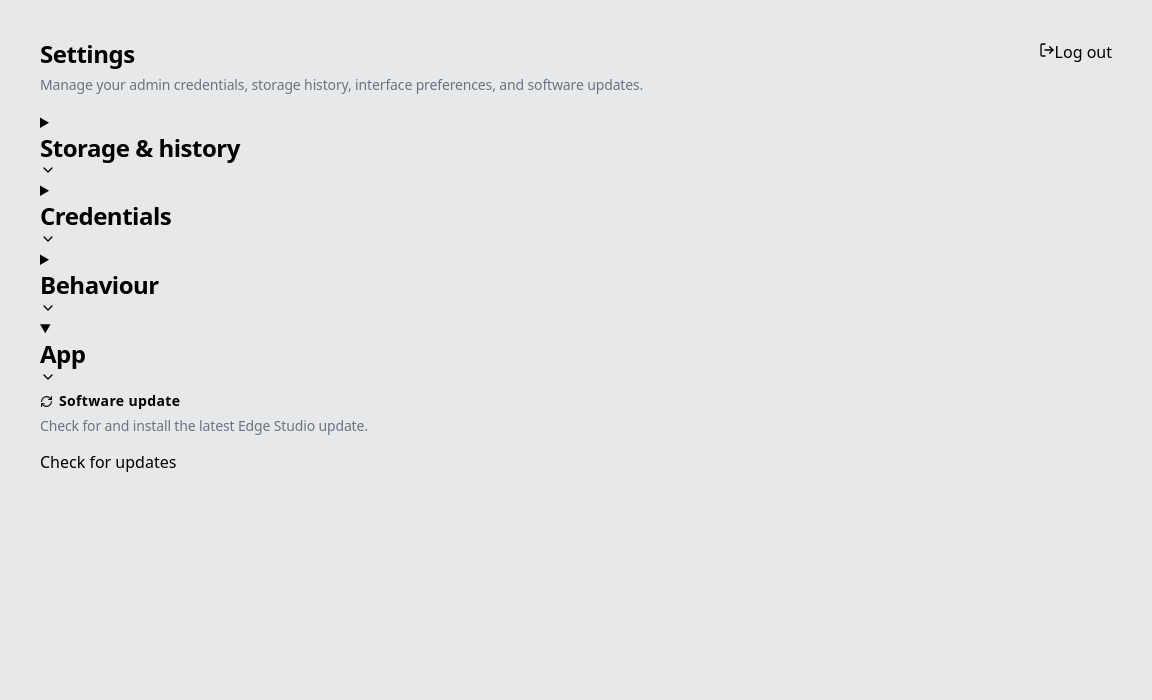
it: loads the storage inventory only after opening the storage history section
Click the heading "Storage & history".
click(140, 154)  # box [40, 131, 240, 178]
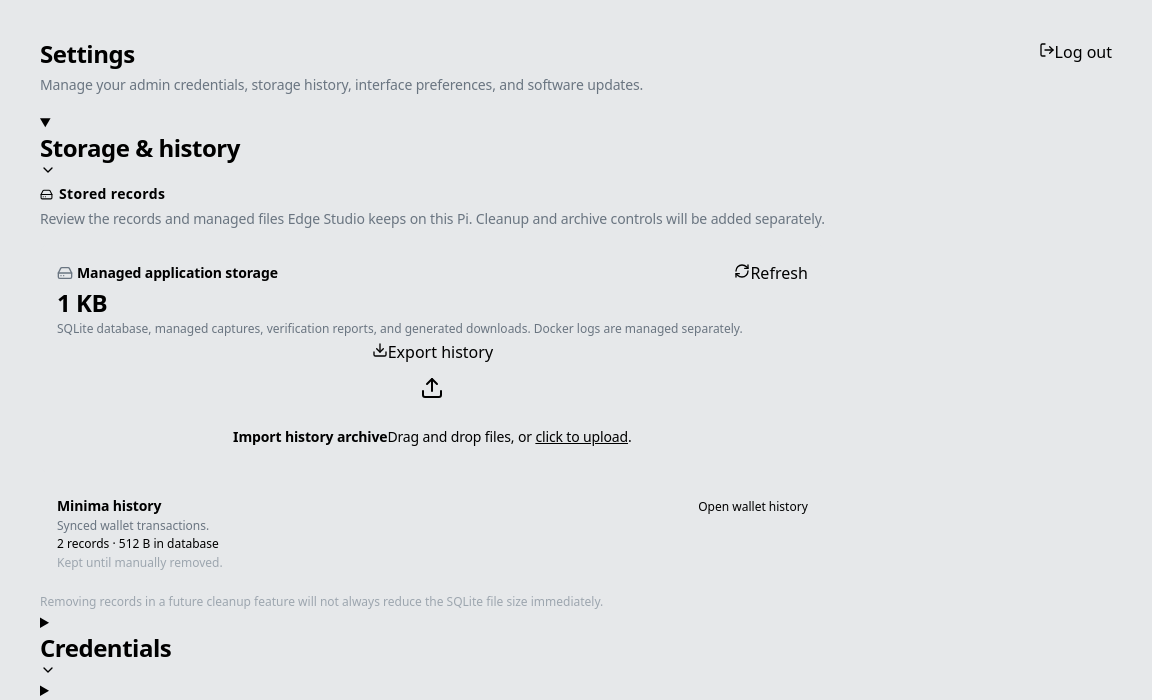
Now the text "Managed application storage" is shown, box [77, 265, 278, 281]
Now the text "Minima history" is shown, box [57, 496, 161, 515]
Now the text "2 records · 512 B in database" is shown, box [57, 535, 219, 552]
